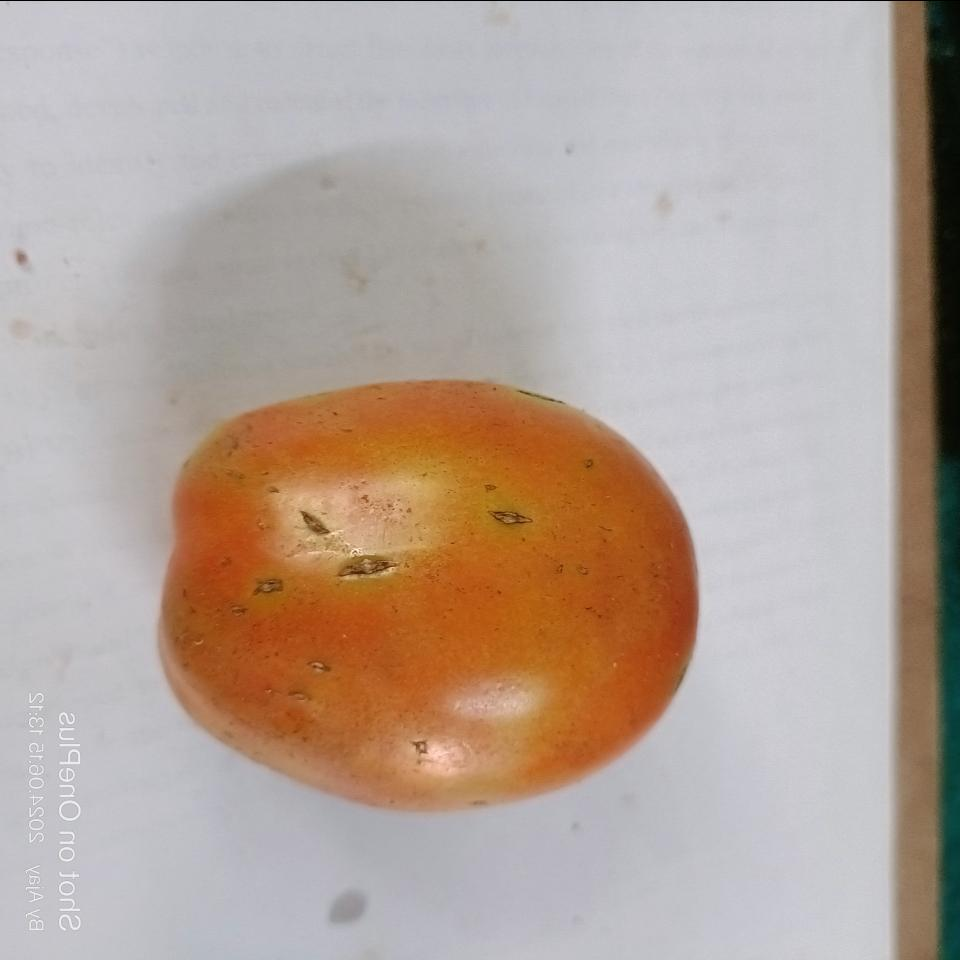Bacterial_Spot: (339, 549, 395, 581), (488, 498, 535, 530), (255, 566, 292, 594), (299, 509, 332, 538)
